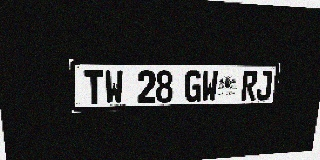2: (138, 70, 156, 103)
8: (156, 70, 174, 103)
G: (184, 70, 202, 102)
J: (256, 71, 273, 100)
R: (241, 71, 258, 101)
T: (84, 70, 104, 105)
W: (104, 70, 123, 104), (201, 71, 218, 102)
